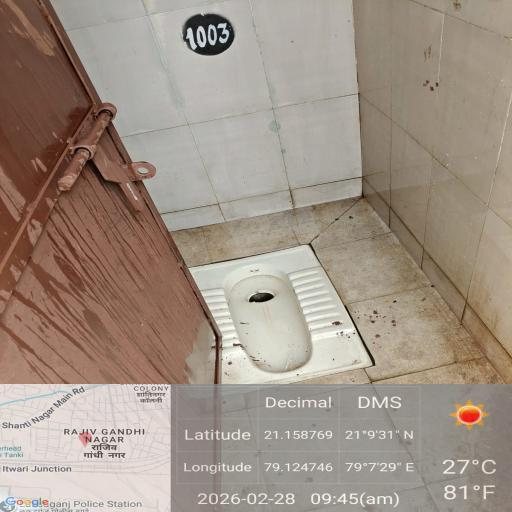dirty_floor: (175, 219, 511, 512)
partial_dirty_floor: (114, 30, 484, 183)
partial_dirty_indian: (184, 258, 392, 386)
